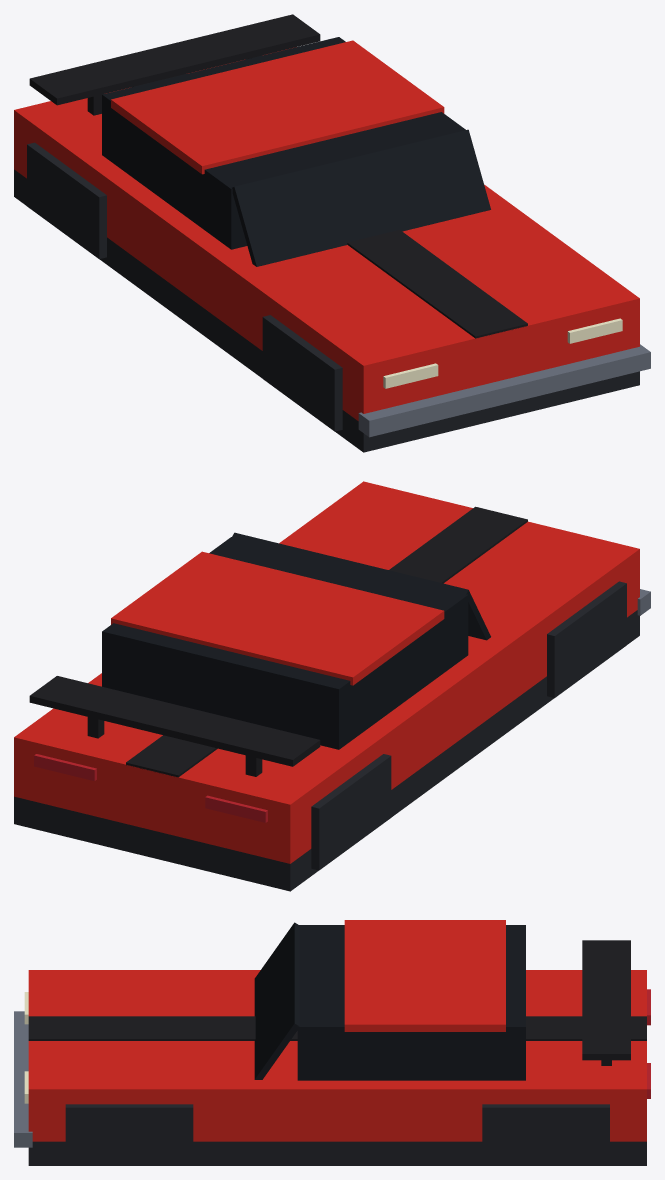
The model's file is sports_car.glb.
3 views of the same model, one above another, from view 1: azimuth 30°, elevation 25°; view 2: azimuth 150°, elevation 25°; view 3: azimuth 270°, elevation 25° (orthographic). The views are drawn at different scales.
Parts seen in each view (by area): view 1: body_sports_red, body_getaway_glass, body_car_black, body_sports_stripe, body_car_grey, lights_lamp; view 2: body_sports_red, body_getaway_glass, body_car_black, body_sports_stripe, lights_tail; view 3: body_sports_red, body_car_black, body_getaway_glass, body_sports_stripe, body_car_grey.
Boxes of the visible parts, x1,y1,x2,y2 form: body_sports_red: (14,40,639,420); body_getaway_glass: (102,37,490,266); body_car_black: (14,142,639,452); body_sports_stripe: (29,14,527,338); body_car_grey: (358,344,650,437); lights_lamp: (383,318,622,388); body_sports_red: (14,481,639,863); body_getaway_glass: (102,532,490,749); body_car_black: (14,581,639,891); body_sports_stripe: (29,506,527,777); lights_tail: (34,754,267,822); body_sports_red: (28,920,646,1141); body_car_black: (28,1104,646,1165); body_getaway_glass: (254,922,525,1080); body_sports_stripe: (28,940,646,1065); body_car_grey: (14,1011,32,1147).
Size of the model in its own units: 2.22 by 1.1 by 4.74.
